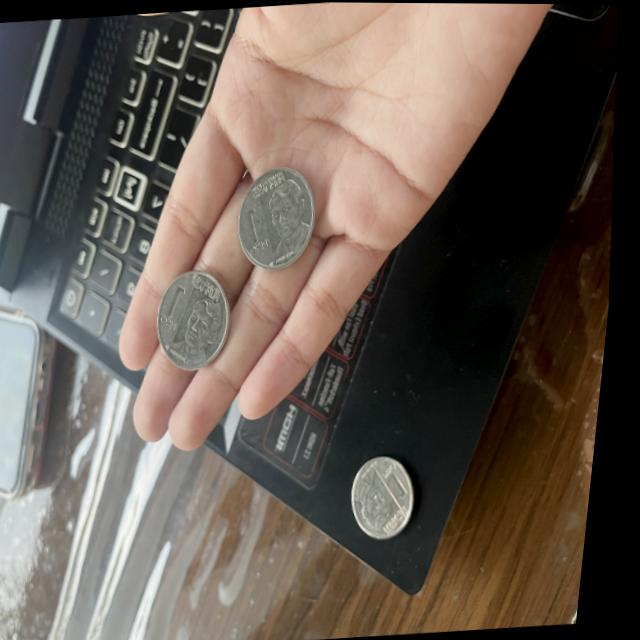1_New_Front: (240, 167, 320, 261), (354, 455, 429, 543), (160, 275, 235, 361)
